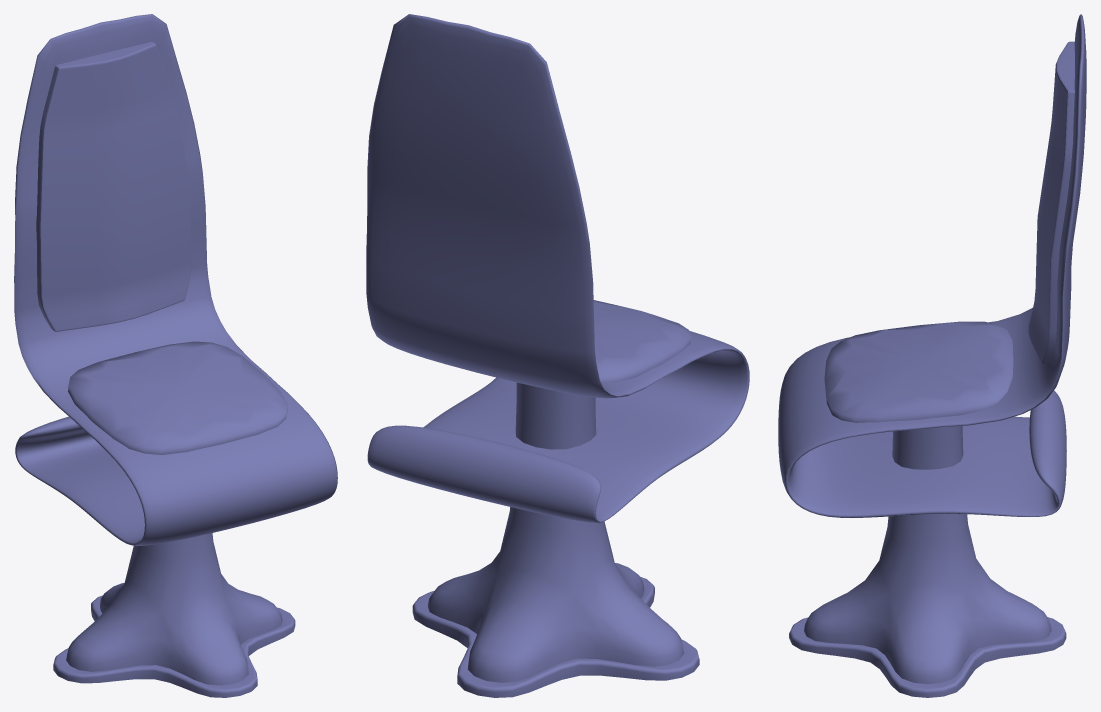
Rendered from stuhl.fbx.
The picture shows the model from 3 angles, left to right: view 1: azimuth 30°, elevation 25°; view 2: azimuth 150°, elevation 25°; view 3: azimuth 270°, elevation 25°; orthographic projection. The views are drawn at different scales.
Parts seen in each view (by area): view 1: stuhl; view 2: stuhl; view 3: stuhl.
Boxes of the visible parts, bbox=[...] form: stuhl: bbox=[14, 14, 337, 697]; stuhl: bbox=[366, 14, 749, 697]; stuhl: bbox=[778, 14, 1086, 697].
Bounding box in the file's own units: 0.5603 × 1.31 × 0.6108.
